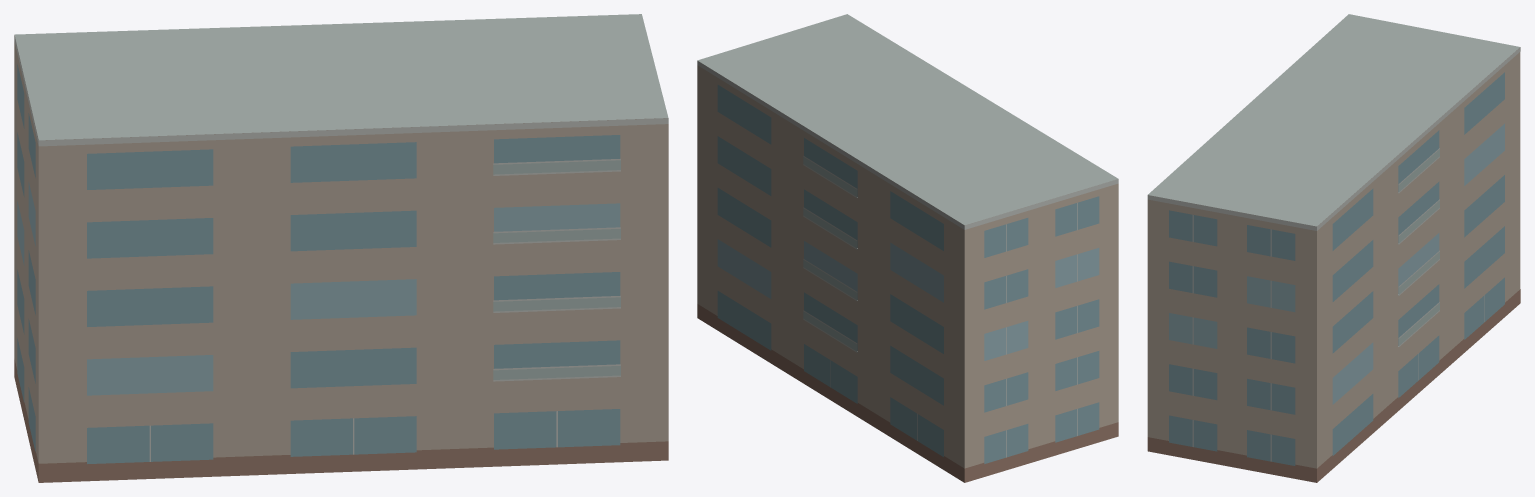
Rendered from survey-upis-32971385.glb.
3 renders of one model, left to right at view 1: azimuth 30°, elevation 25°; view 2: azimuth 150°, elevation 25°; view 3: azimuth 270°, elevation 25°, orthographic. The views are drawn at different scales.
Parts seen in each view (by area): view 1: survey-upis-32971385.tmp; view 2: survey-upis-32971385.tmp; view 3: survey-upis-32971385.tmp.
Part boxes in pixels (x1,y1,x2,y2): survey-upis-32971385.tmp: (14,14,668,482); survey-upis-32971385.tmp: (697,14,1118,482); survey-upis-32971385.tmp: (1147,14,1520,482).
Bounding box in the file's own units: 24.36 × 13.7 × 18.06.
